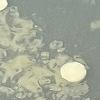white: (60, 60, 88, 83), (0, 0, 8, 11)
